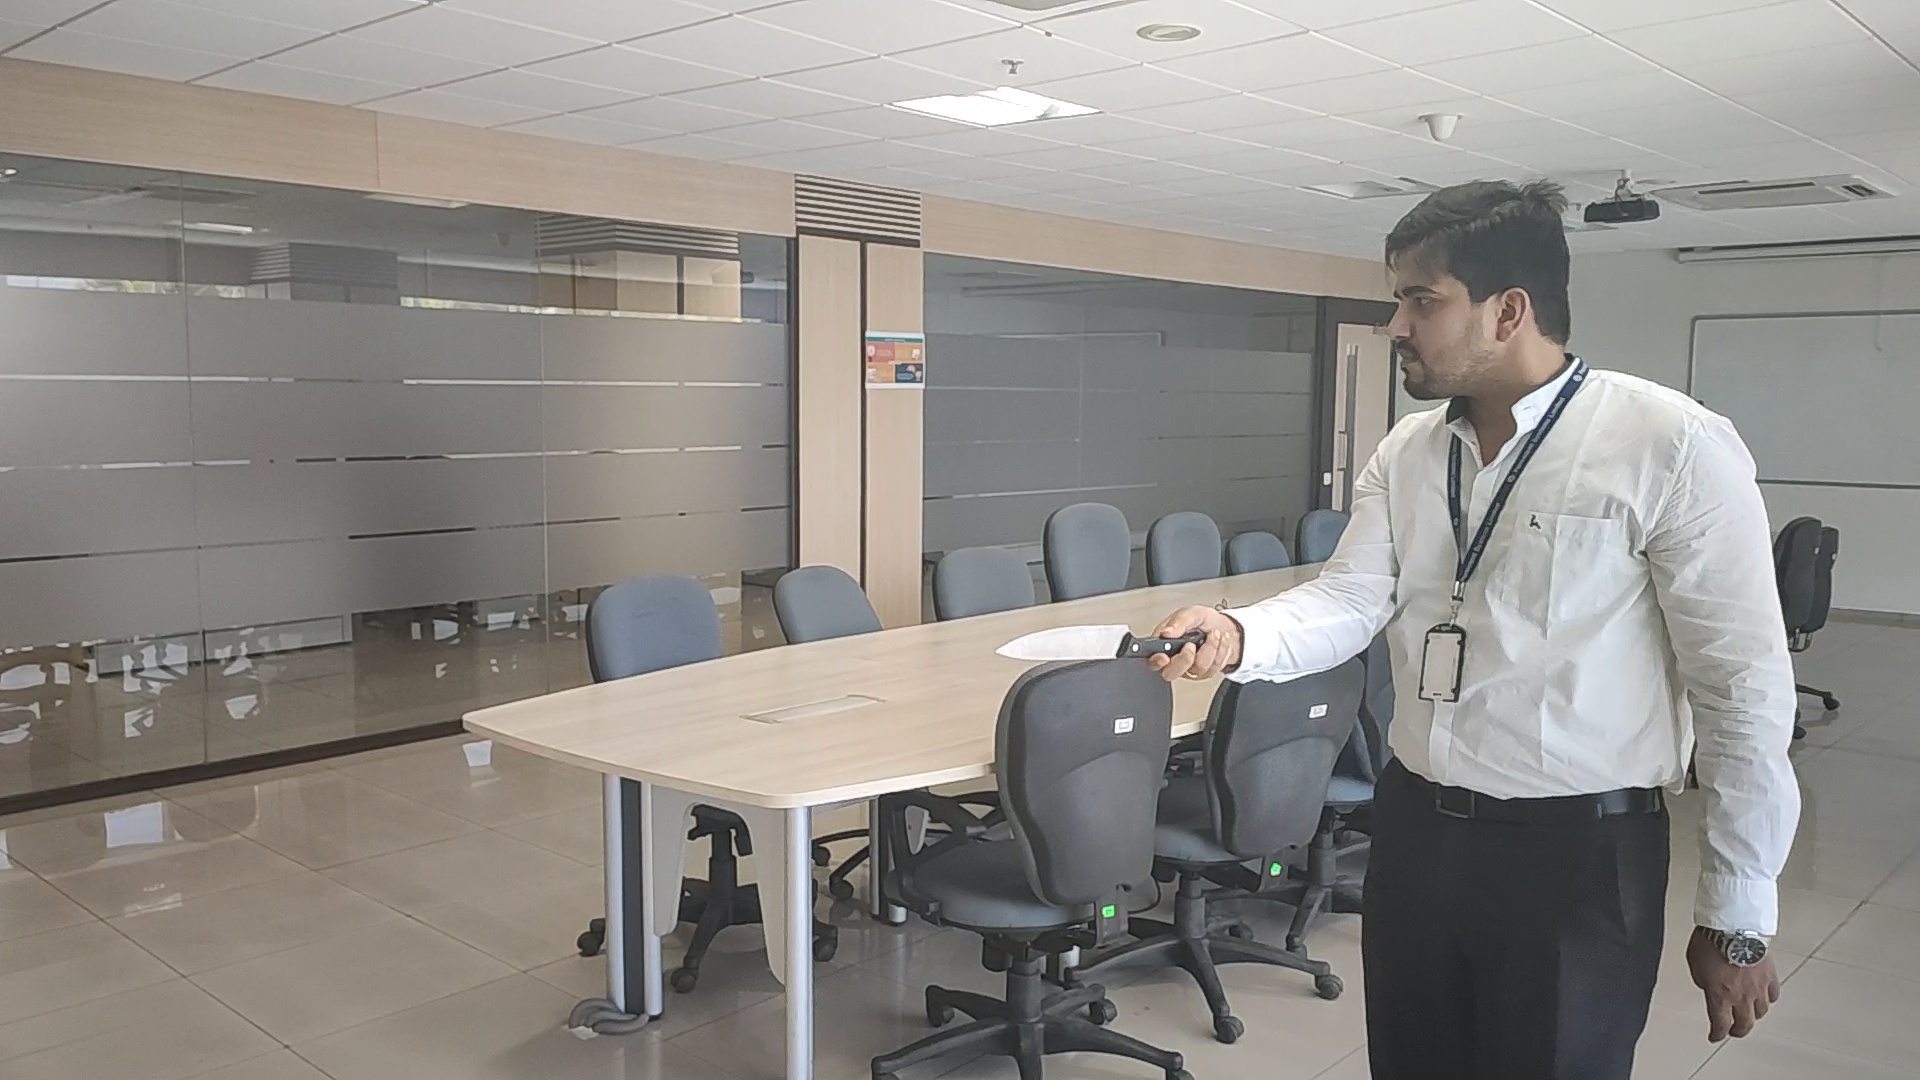knife: (992, 622, 1179, 662)
